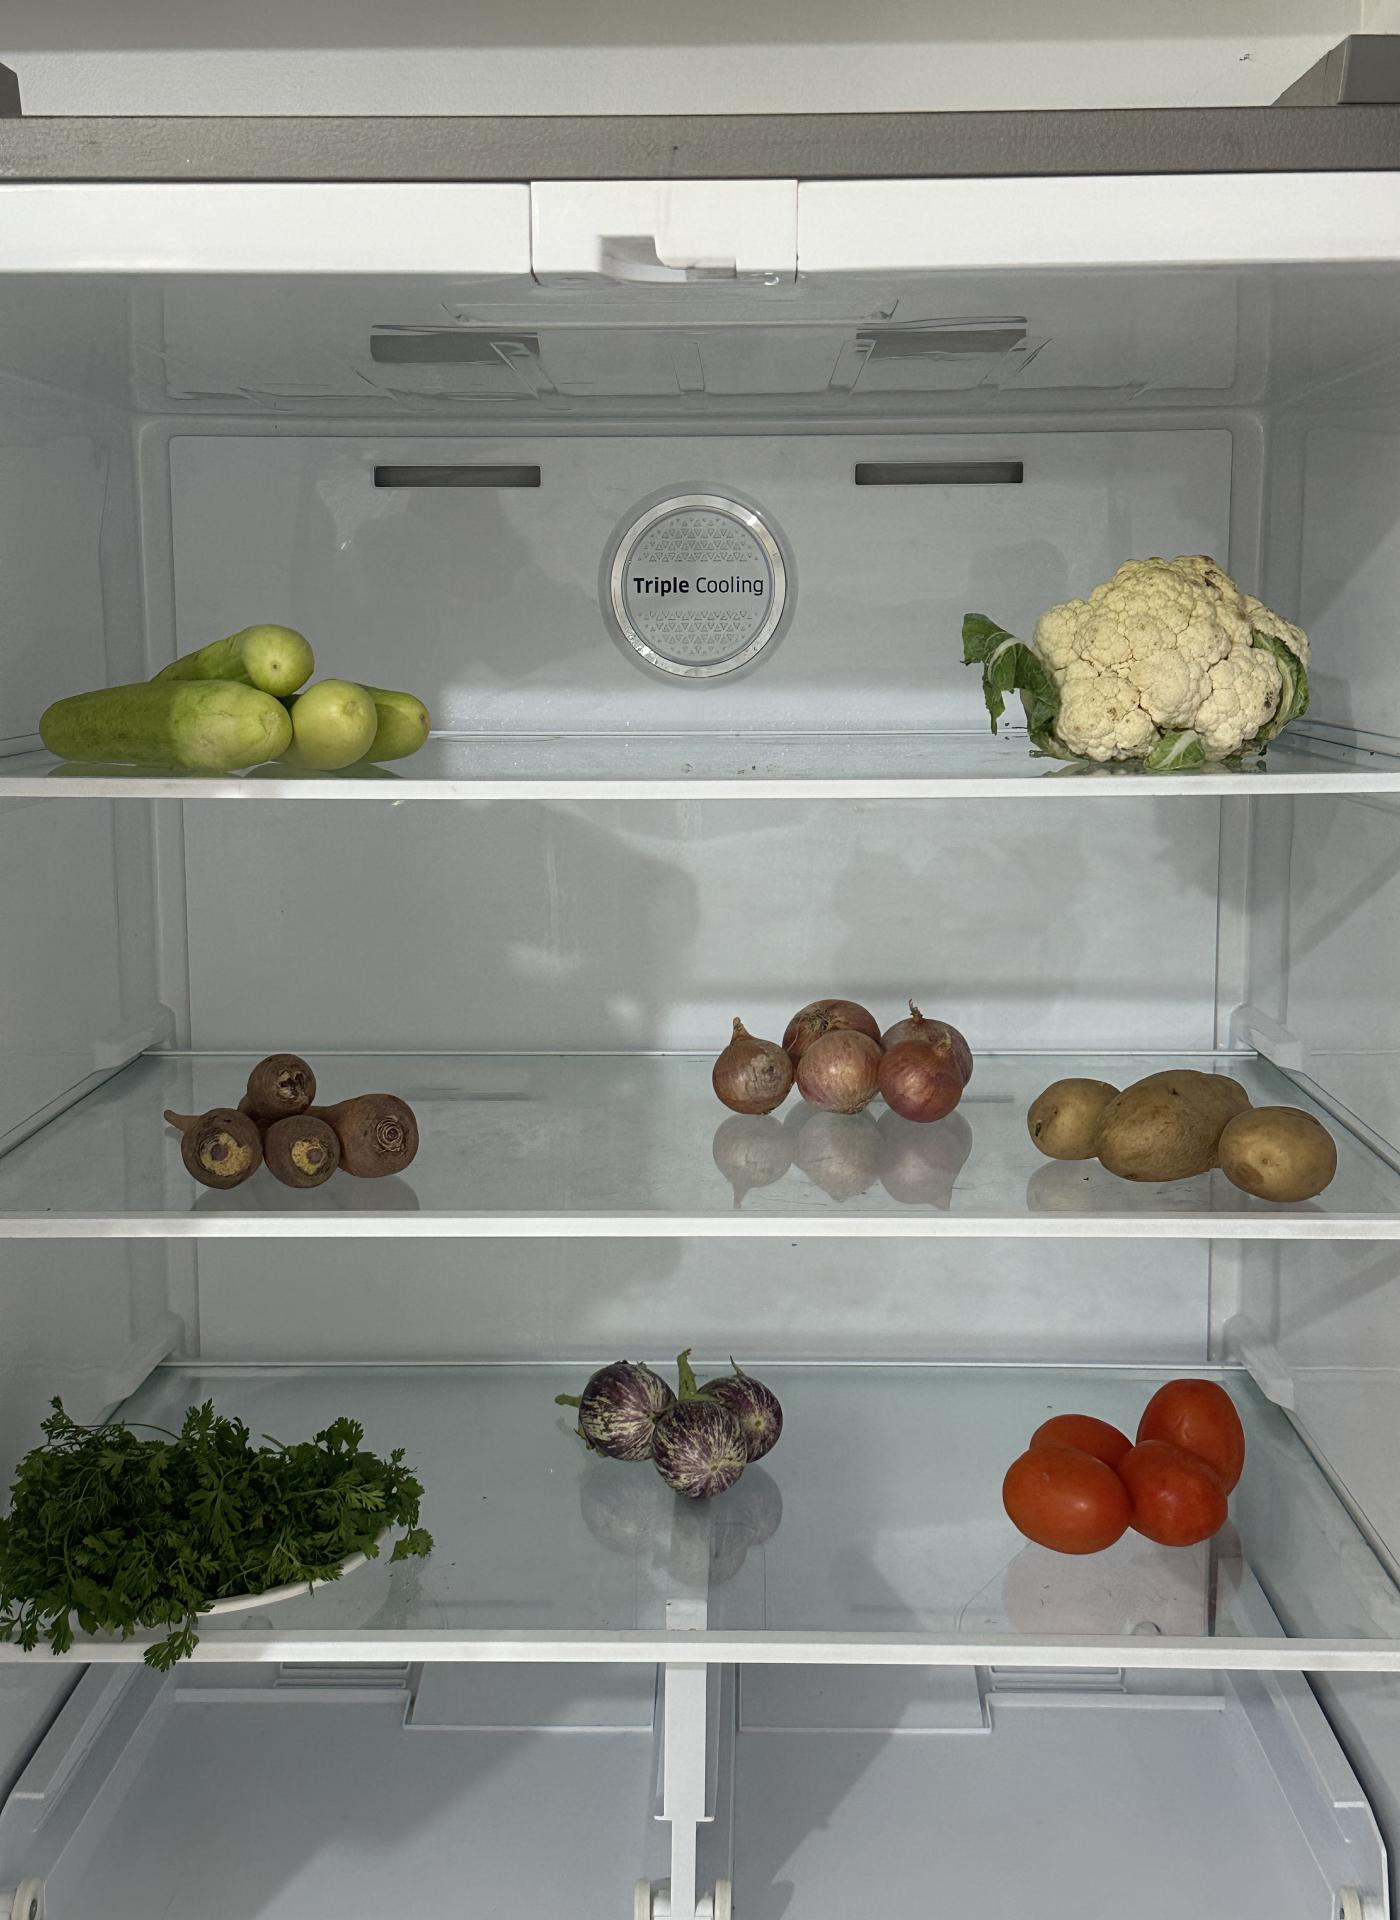carrots: (161, 1046, 423, 1197)
cauliflower: (1012, 552, 1314, 762)
coriander: (36, 1398, 428, 1626)
cucumber: (42, 622, 428, 777)
onion: (710, 988, 975, 1124)
potato: (1021, 1067, 1334, 1201)
tomato: (999, 1373, 1249, 1553)
